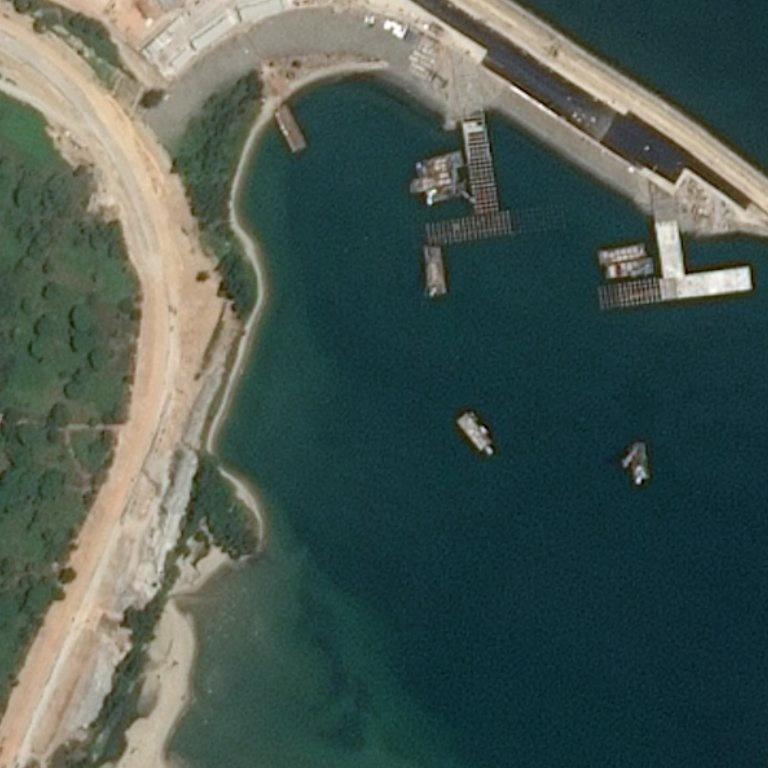ship: (274, 107, 310, 153), (38, 206, 66, 260), (28, 152, 82, 175), (604, 257, 655, 280), (597, 243, 648, 265), (22, 175, 71, 193), (59, 146, 66, 168), (477, 28, 478, 74), (626, 464, 649, 465)
